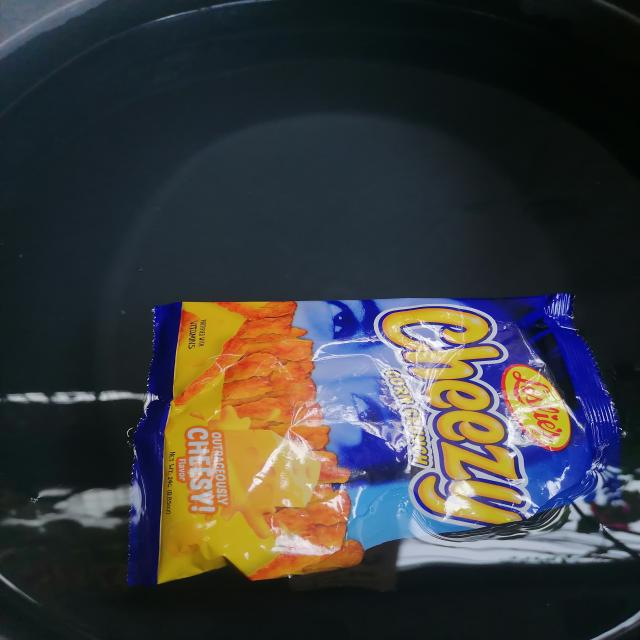Plastic Wrapper: (129, 294, 619, 584)
